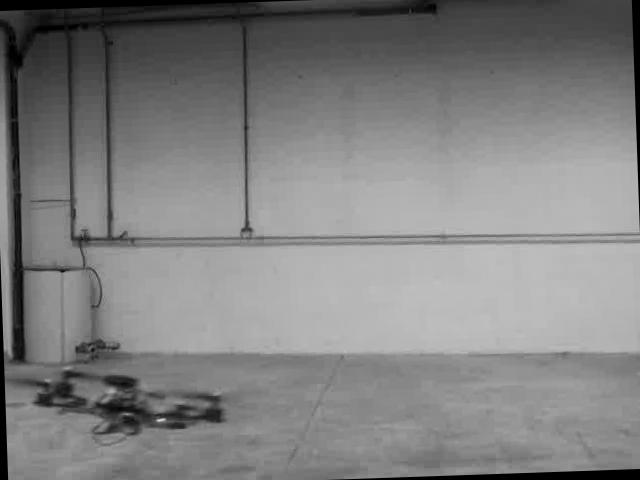drone: (16, 358, 229, 448)
